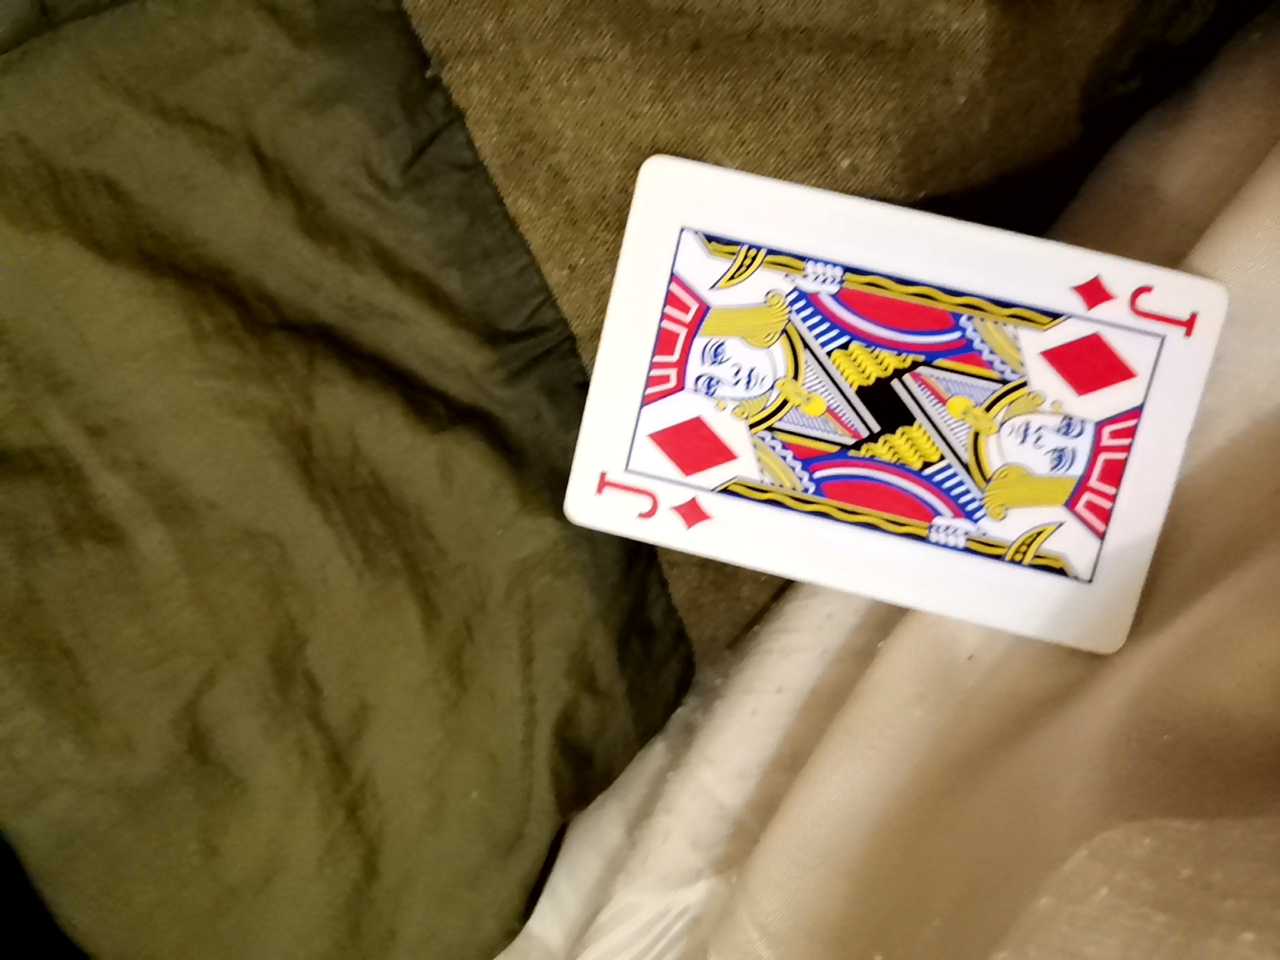fk j: (546, 161, 1236, 657)
